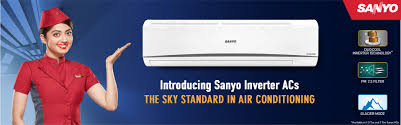ac: (138, 15, 324, 71)
